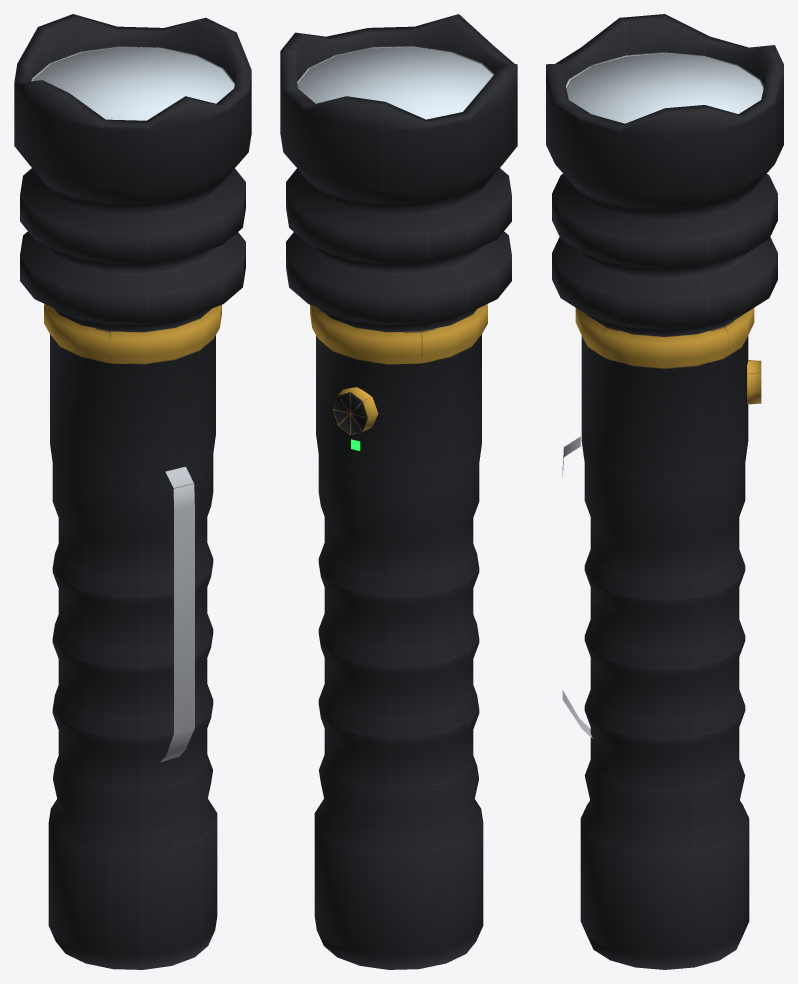
File: LampuSenter.fbx
3 renders of one model, left to right at view 1: azimuth 30°, elevation 25°; view 2: azimuth 150°, elevation 25°; view 3: azimuth 270°, elevation 25°, orthographic.
Visible parts, largest first — view 1: Flashlight; view 2: Flashlight; view 3: Flashlight.
Part boxes in pixels (x1,y1,x2,y2): Flashlight: [14, 14, 251, 969]; Flashlight: [280, 14, 517, 969]; Flashlight: [546, 14, 783, 969].
Size of the model in its own units: 0.04 by 0.162 by 0.04.
Materials: 1 (1 with a texture image).
